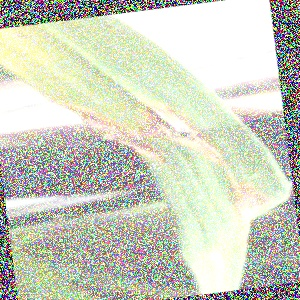Brown_Spot: (56, 95, 159, 178), (138, 86, 223, 184), (227, 174, 285, 244), (188, 233, 238, 296)
